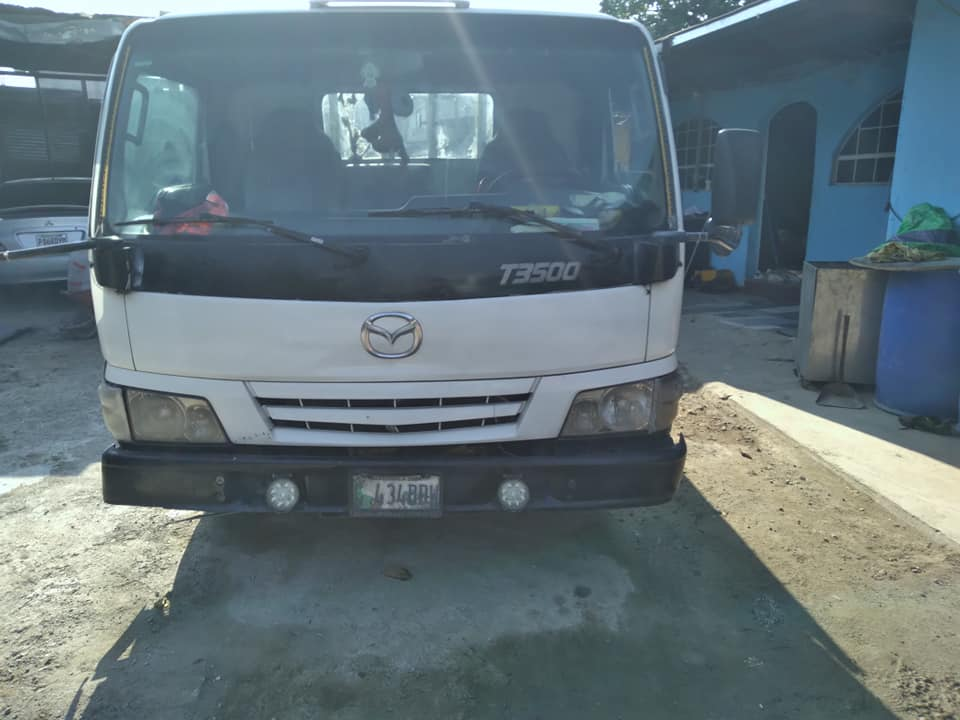camion: (83, 4, 698, 540)
